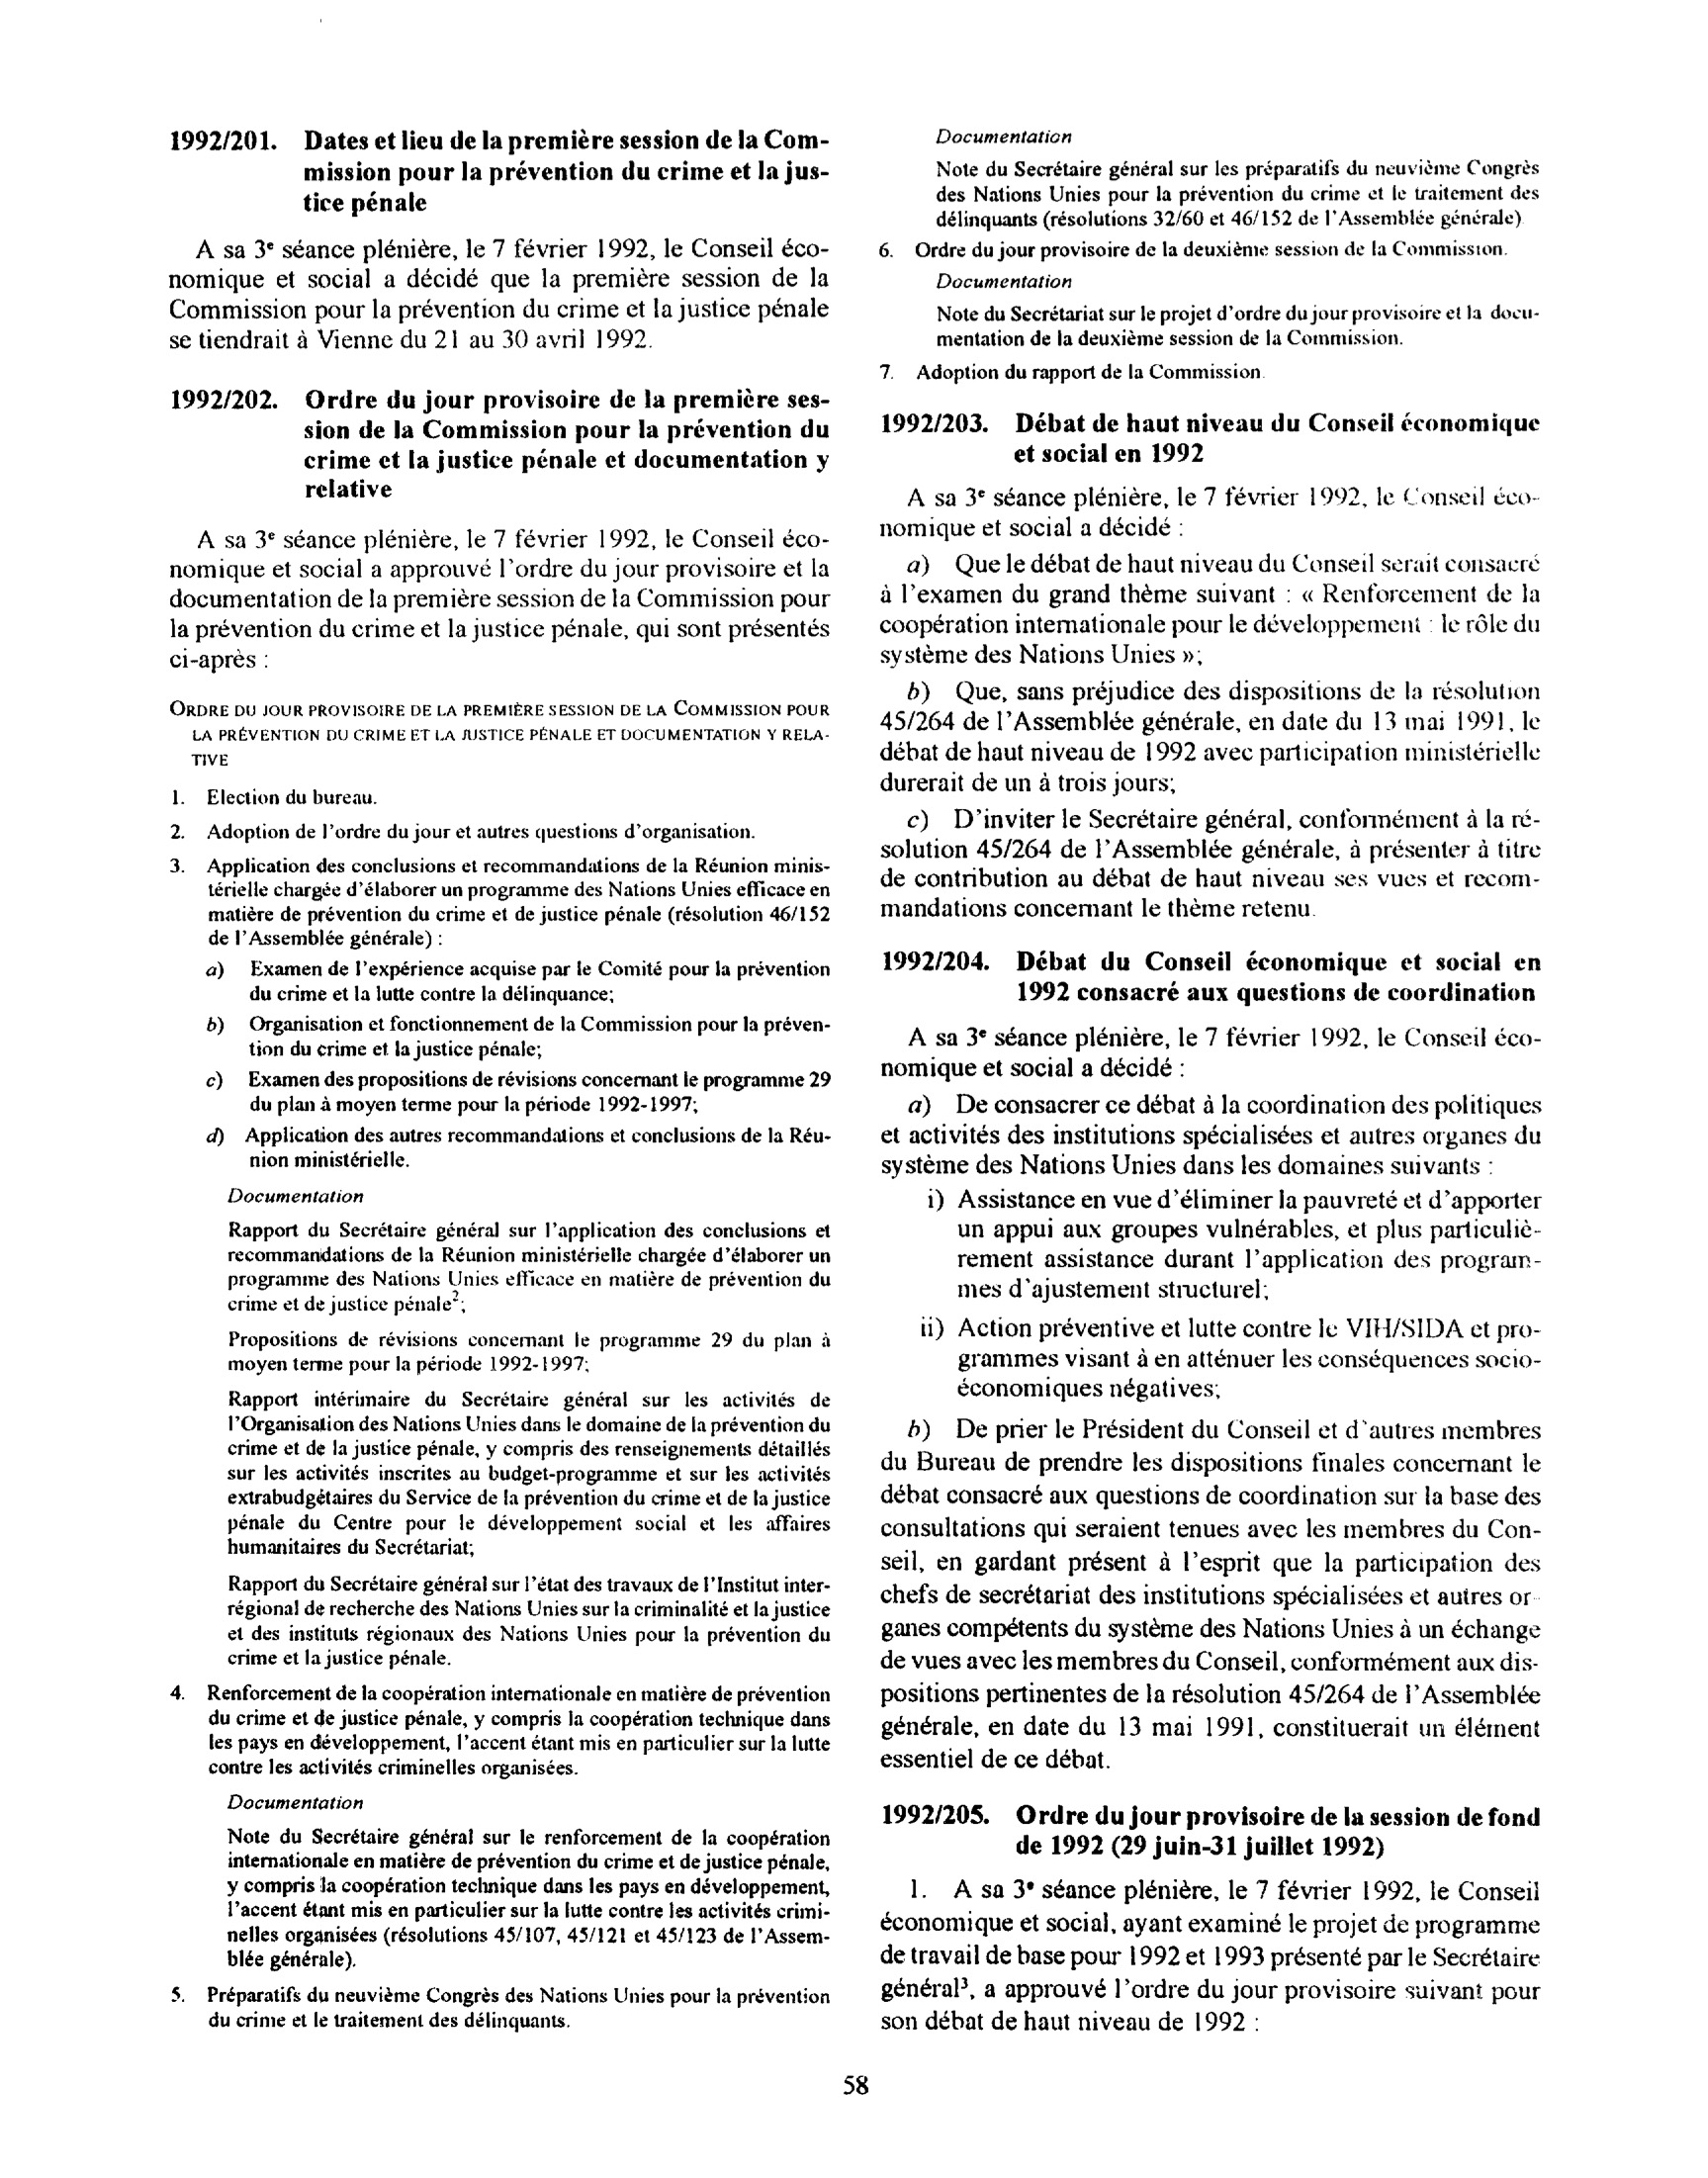MainZone-Head: (161, 380, 838, 506), (163, 121, 837, 219), (161, 694, 841, 775), (875, 940, 1549, 1010), (874, 402, 1550, 471), (874, 1794, 1546, 1862), (874, 233, 1551, 297), (870, 356, 1279, 390)
MainZone-ListItem: (871, 1415, 1552, 1779), (875, 1870, 1549, 2042), (874, 675, 1550, 799), (873, 801, 1548, 926), (872, 548, 1548, 672), (884, 1184, 1549, 1305), (162, 1675, 837, 1781), (164, 852, 839, 953), (872, 1087, 1548, 1182), (893, 1309, 1548, 1405), (165, 1978, 836, 2041), (193, 1064, 840, 1119), (186, 955, 839, 1009), (192, 1011, 836, 1063), (197, 1121, 840, 1173), (165, 814, 819, 845), (164, 782, 386, 814)
MainZone-P: (221, 1386, 839, 1562), (163, 523, 840, 678), (214, 1820, 839, 1975), (162, 233, 838, 357), (220, 1216, 841, 1320), (220, 1569, 840, 1672), (923, 153, 1555, 232), (873, 1018, 1550, 1086), (870, 480, 1548, 546), (913, 299, 1547, 354), (220, 1324, 841, 1380), (925, 119, 1076, 150), (220, 1787, 373, 1818), (223, 1181, 371, 1212)
TitlePageZone: (838, 2070, 875, 2106)
